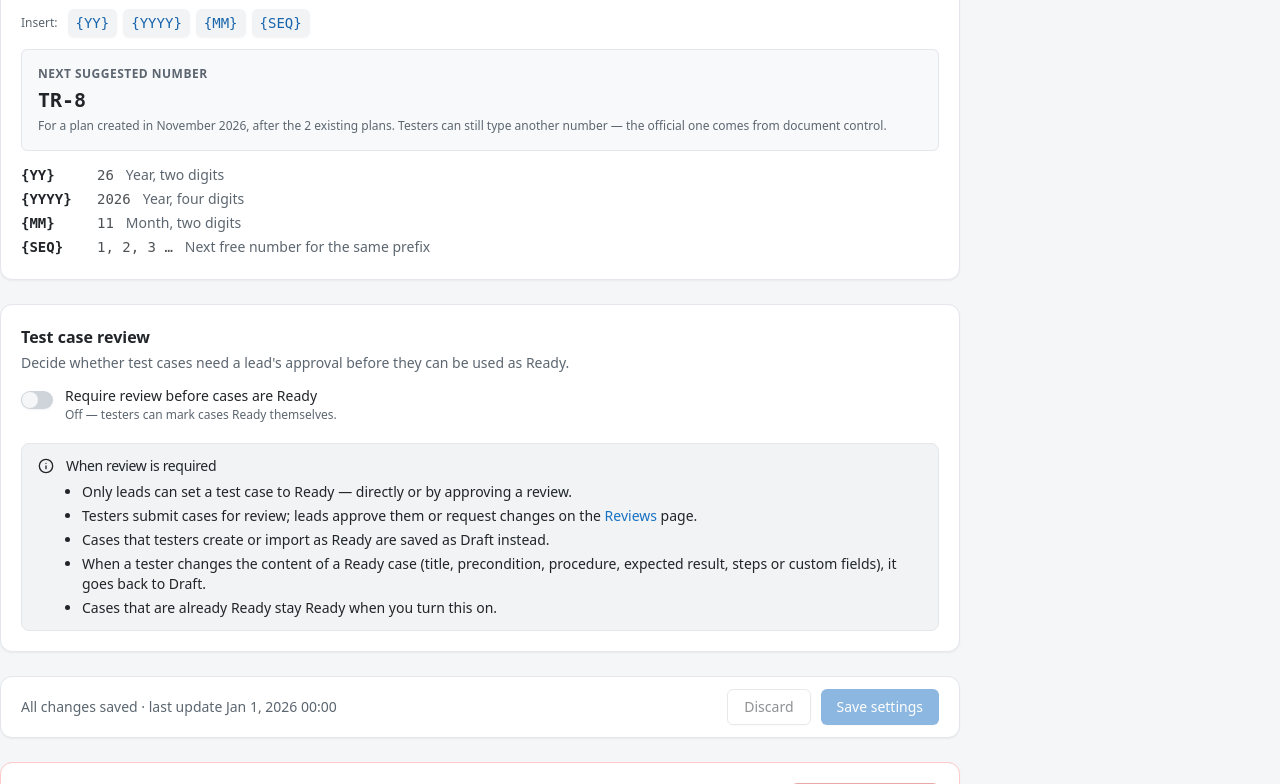
Test case: GeneralSettingsPage › saves the review rule
(page scrolled)
What coordinates should you click on to do the following:
click the switch named "Require review before cases are Ready"
I would click on:
 (37, 400)
Its box is [21, 391, 53, 409].
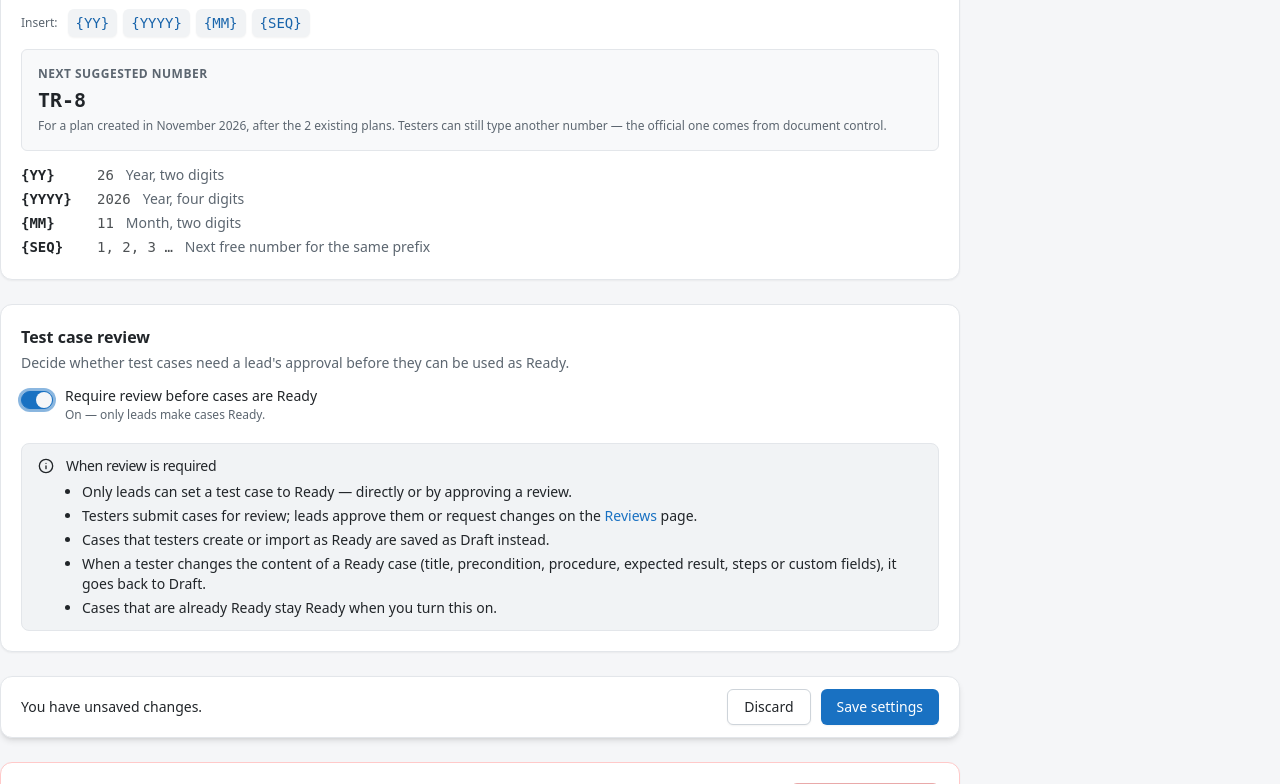
expect the text "On — only leads make cases Ready." is shown: met, box [65, 406, 265, 423]
What coordinates should you click on to do the following:
click the button "Save settings"
I would click on:
 (880, 707)
Its box is [820, 689, 939, 725].
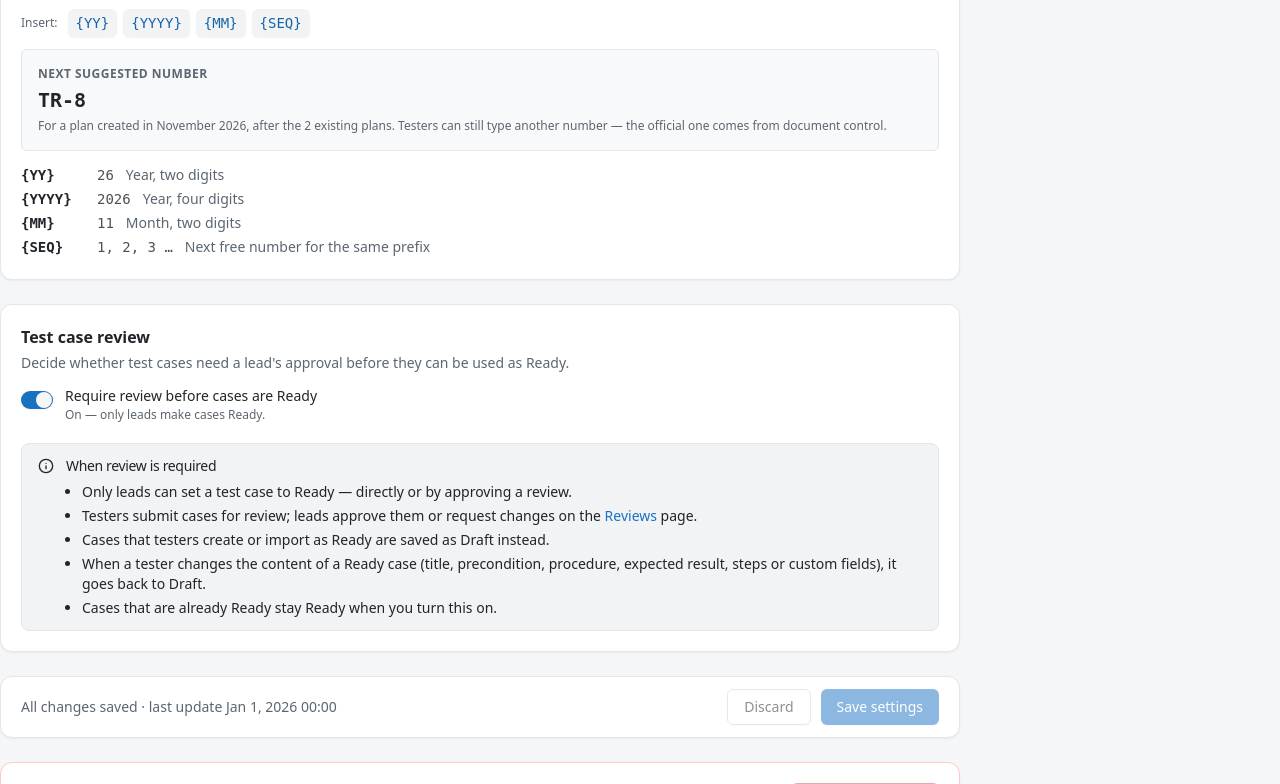
expect the text "All changes saved · last update Jan 1, 2026 00:00" is shown: met, box [21, 697, 337, 717]
